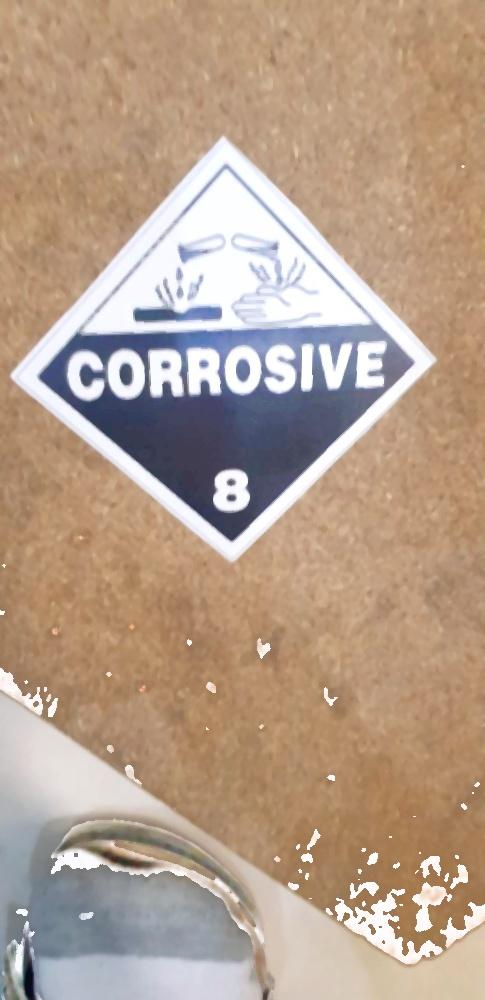corrosive: (12, 135, 438, 559)
